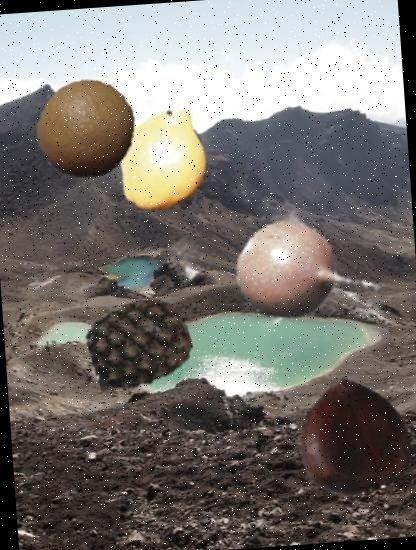Chestnut: (288, 372, 414, 498)
Granadilla: (228, 204, 382, 357)
Orange: (32, 76, 140, 184)
Pineapple: (86, 290, 194, 398)
Quince: (106, 100, 221, 216)
